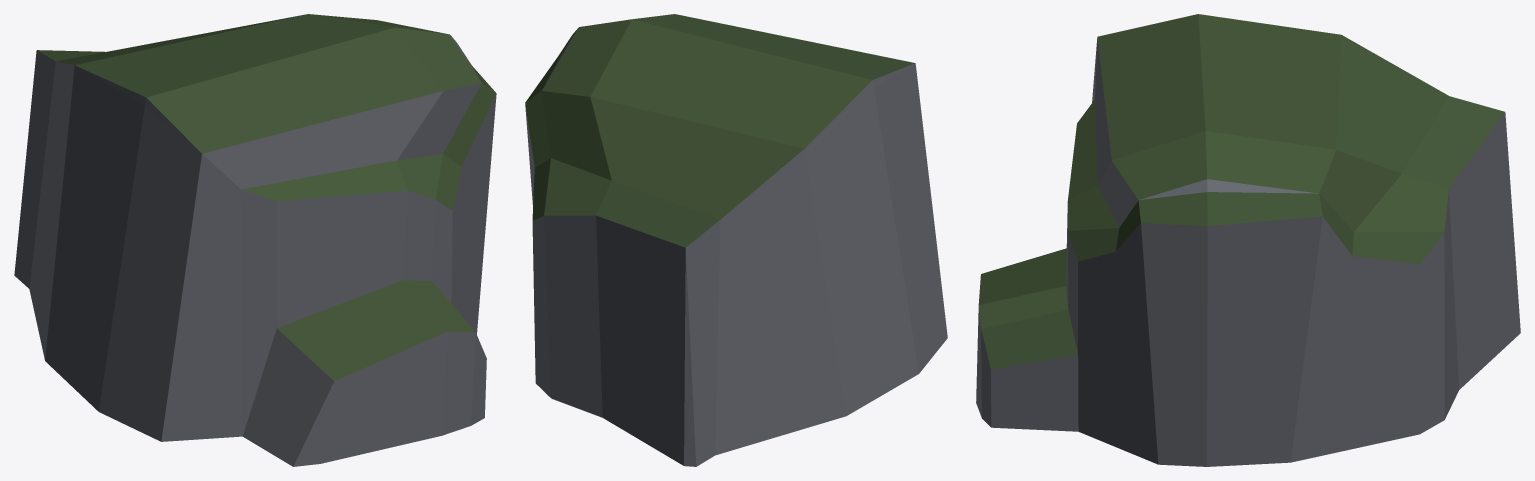
File: rock_moss_6.glb
The picture shows the model from 3 angles, left to right: view 1: azimuth 30°, elevation 25°; view 2: azimuth 150°, elevation 25°; view 3: azimuth 270°, elevation 25°; orthographic projection. The views are drawn at different scales.
Parts seen in each view (by area): view 1: rock_moss_6; view 2: rock_moss_6; view 3: rock_moss_6.
Part boxes in pixels (bbox=[...]): rock_moss_6: bbox=[14, 14, 496, 466]; rock_moss_6: bbox=[525, 14, 947, 466]; rock_moss_6: bbox=[976, 14, 1520, 466].
Size of the model in its own units: 1.92 by 1.49 by 2.4.
